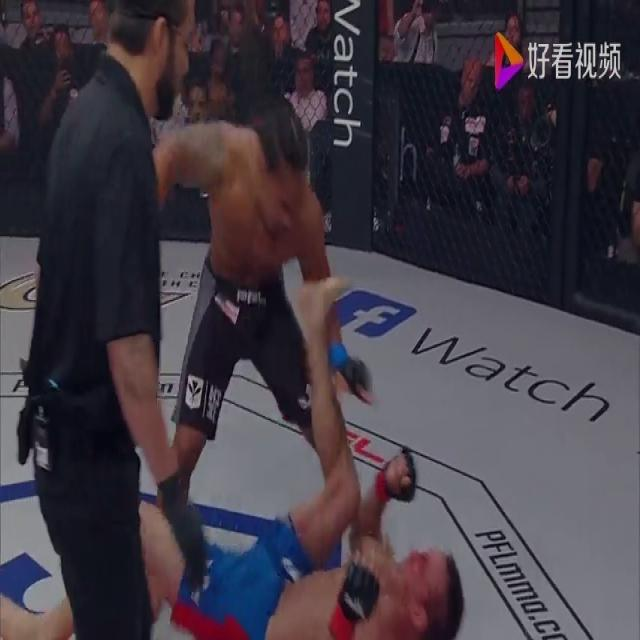fight: (0, 78, 459, 640)
non-fight: (1, 0, 199, 637)
